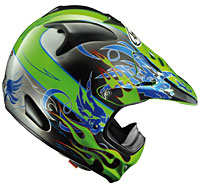helmet: (4, 3, 188, 167)
